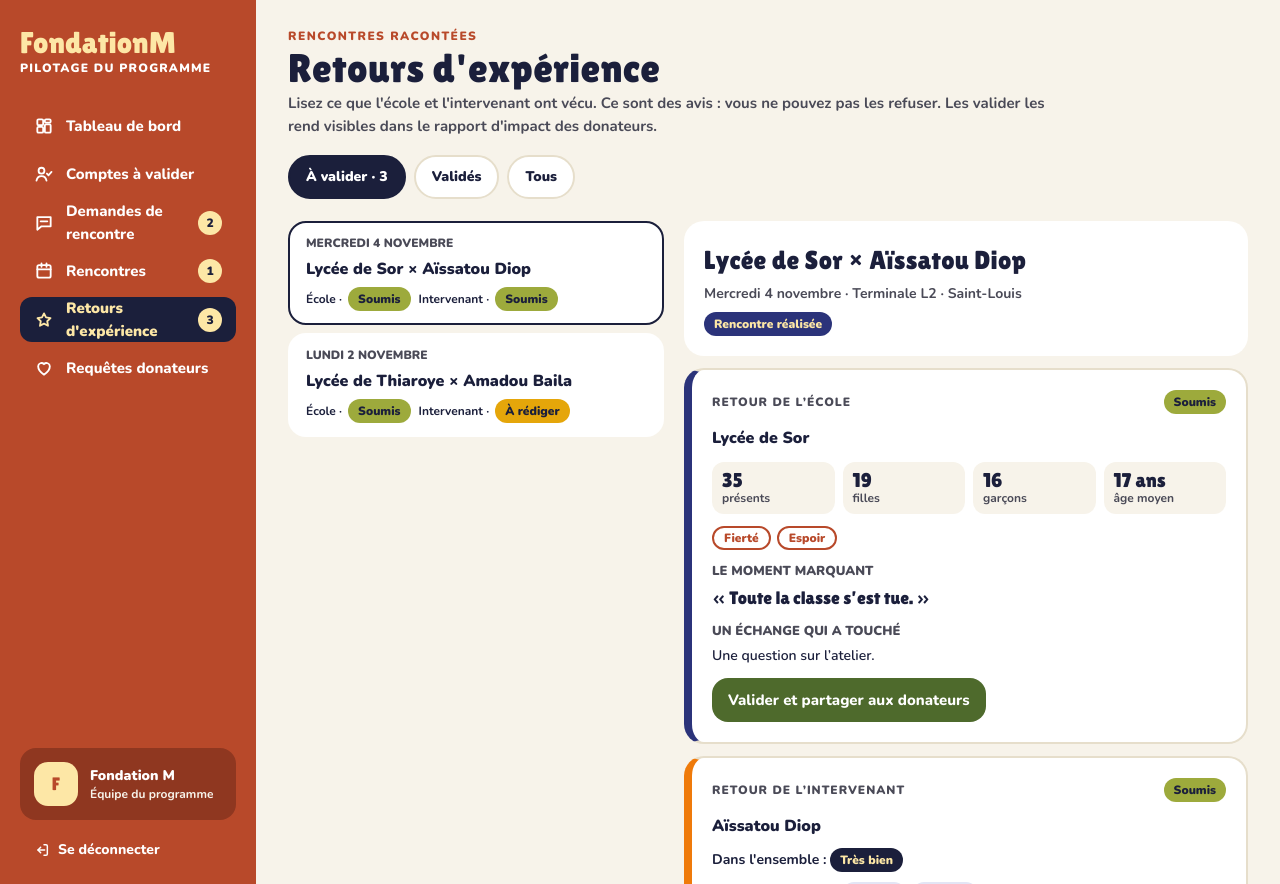
it: Retours d’expérience (Fondation, W3-retours) › montre les deux retours relus par le parseur : chiffres, note par son libellé, pastilles, récits, texte brut
Expected: the heading "Lycée de Sor × Aïssatou Diop" is shown, top-left (704, 245), bottom-right (1026, 275)
Expected: the text "35" shows "présents", top-left (722, 490), bottom-right (770, 506)
Click the button "Thiaroye". click: (476, 385)
box: top-left (288, 333), bottom-right (664, 437)
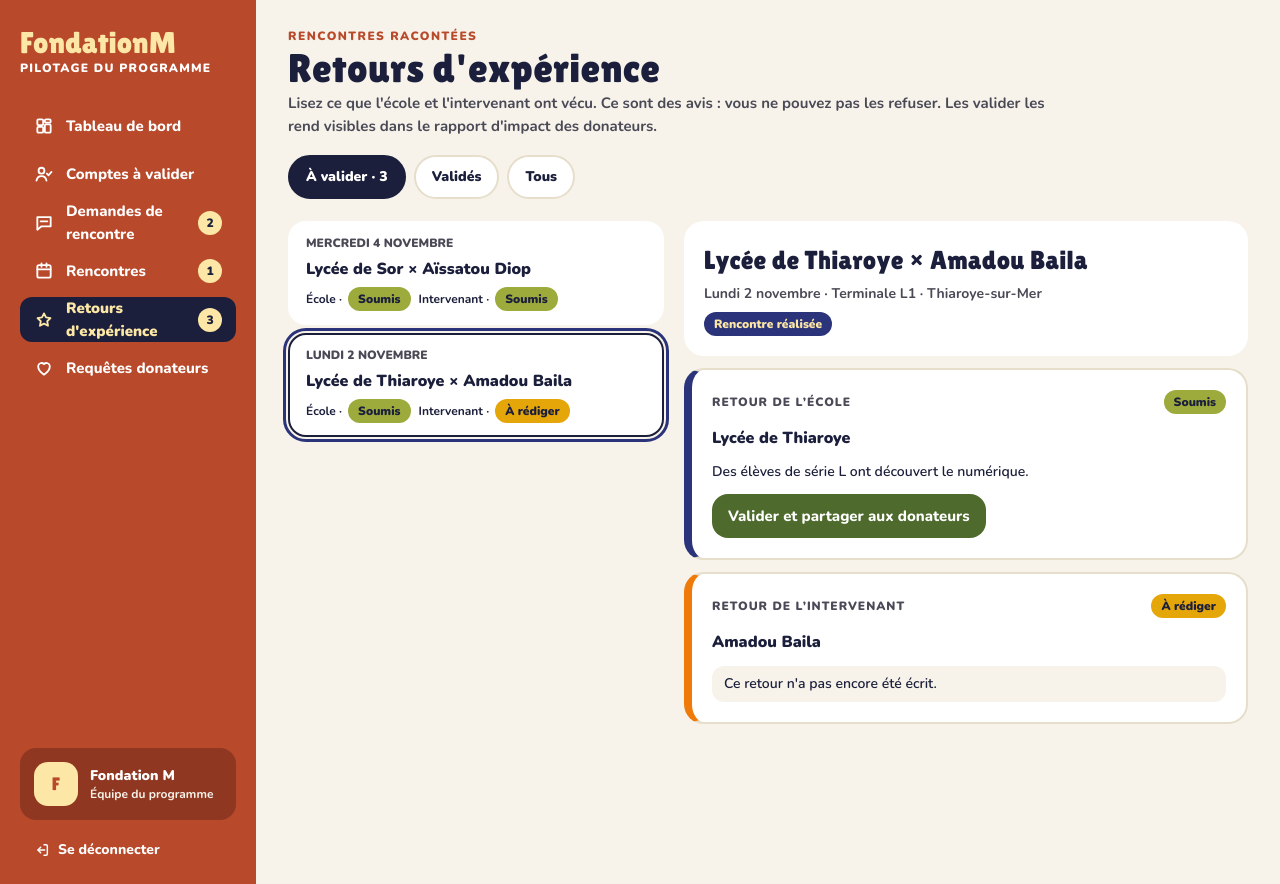
Expected: the text "Des élèves de série L ont découvert le numérique." is shown, top-left (712, 462), bottom-right (1029, 481)
Expected: the text "Ce retour n'a pas encore été écrit." is shown, top-left (712, 666), bottom-right (1226, 702)
